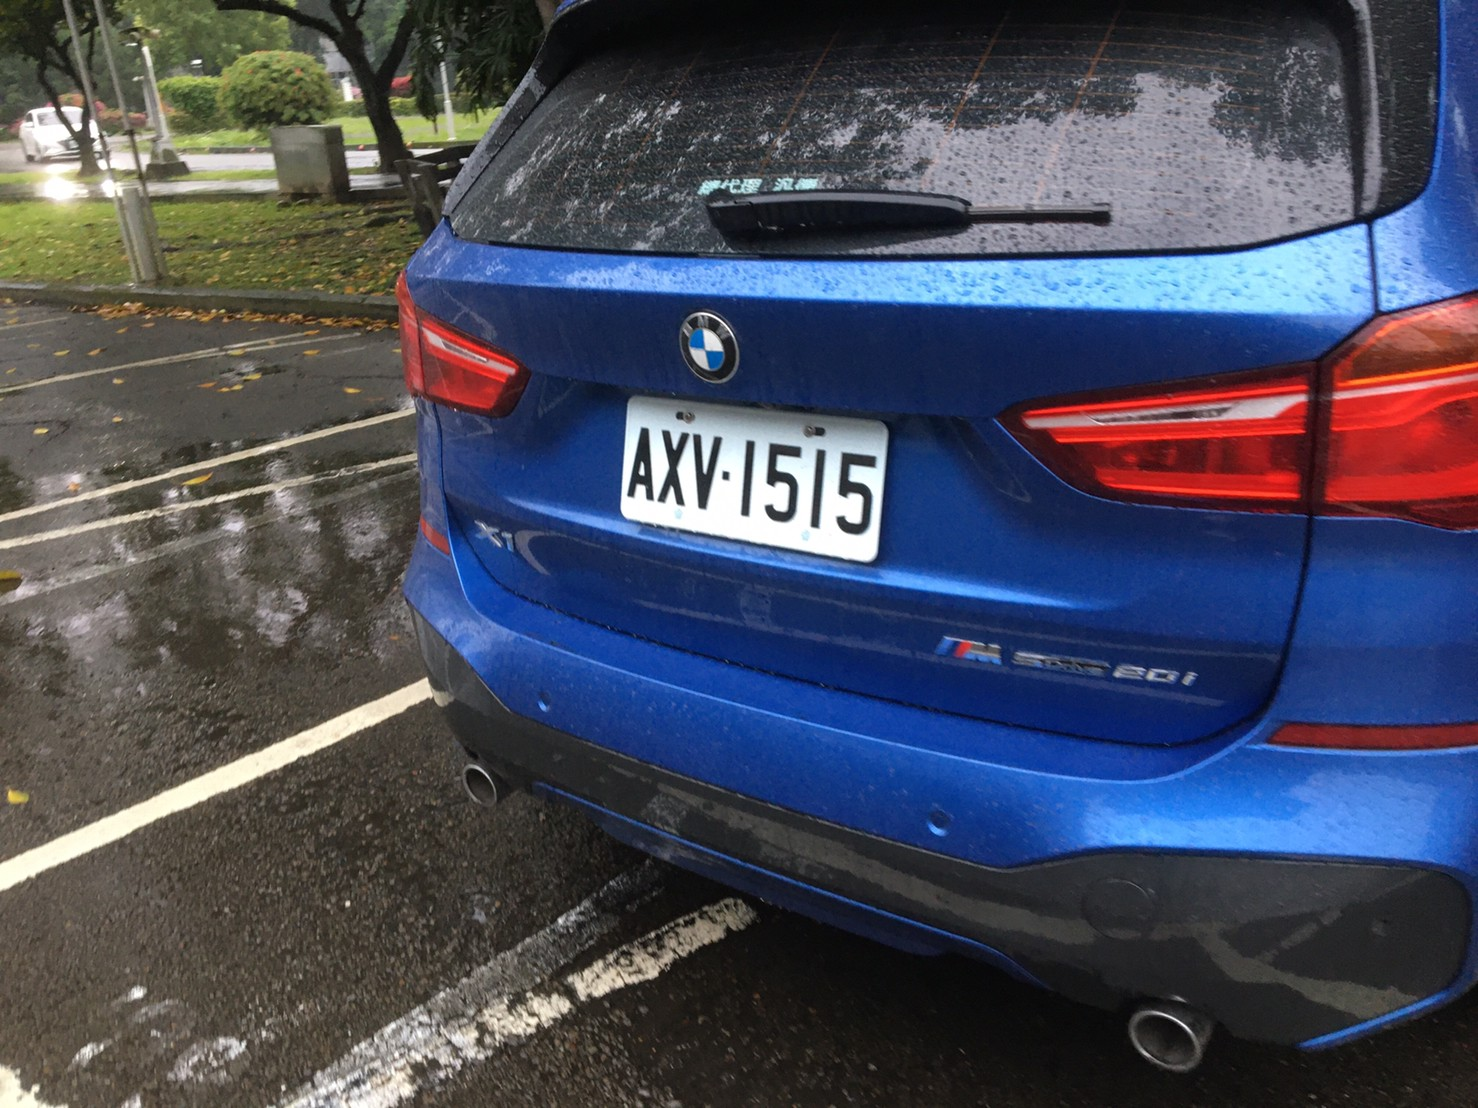LP: (611, 377, 894, 569)
